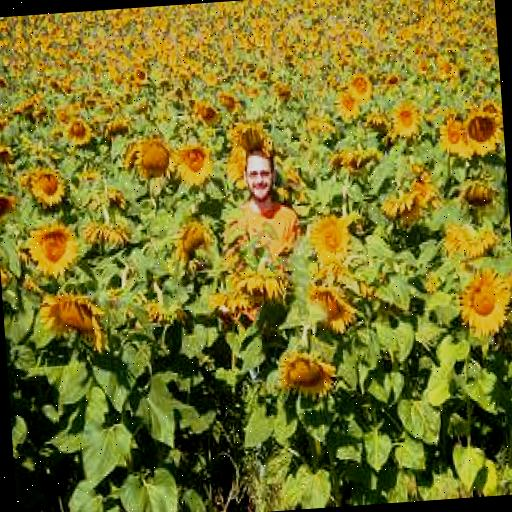sunflower: (40, 284, 104, 350), (456, 271, 508, 338), (276, 348, 338, 402), (26, 224, 80, 276), (124, 132, 174, 182), (174, 142, 214, 190), (313, 216, 351, 266), (461, 111, 505, 154), (30, 164, 65, 208), (439, 118, 467, 154), (331, 88, 362, 120), (392, 102, 418, 136), (344, 71, 374, 100), (66, 116, 92, 145)
